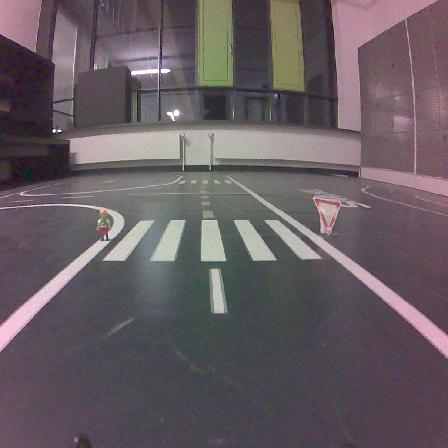CHILD: (97, 209, 111, 240)
GIVE_WAY: (313, 197, 340, 234)
